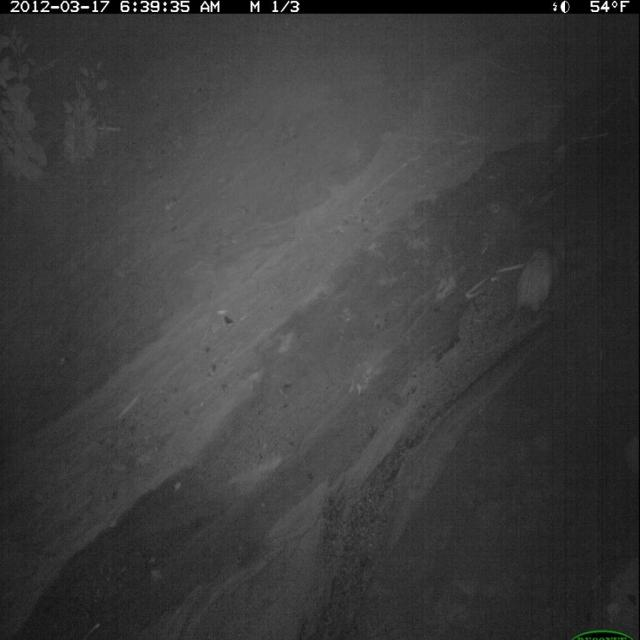opossum: (512, 239, 563, 323)
